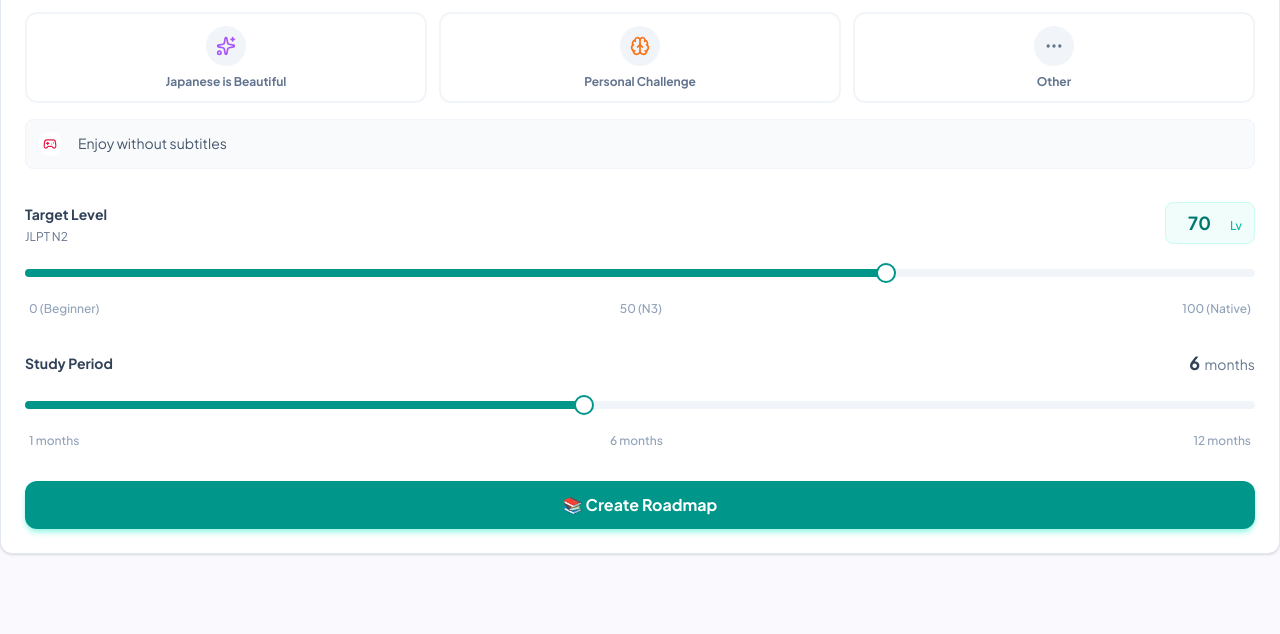
Scenario: RoadmapGenerator Component › enables generation when purpose is selected
(page scrolled)
# Click to generate
Click the button "📚 Create Roadmap": point(640, 505) [25,481,1255,529]
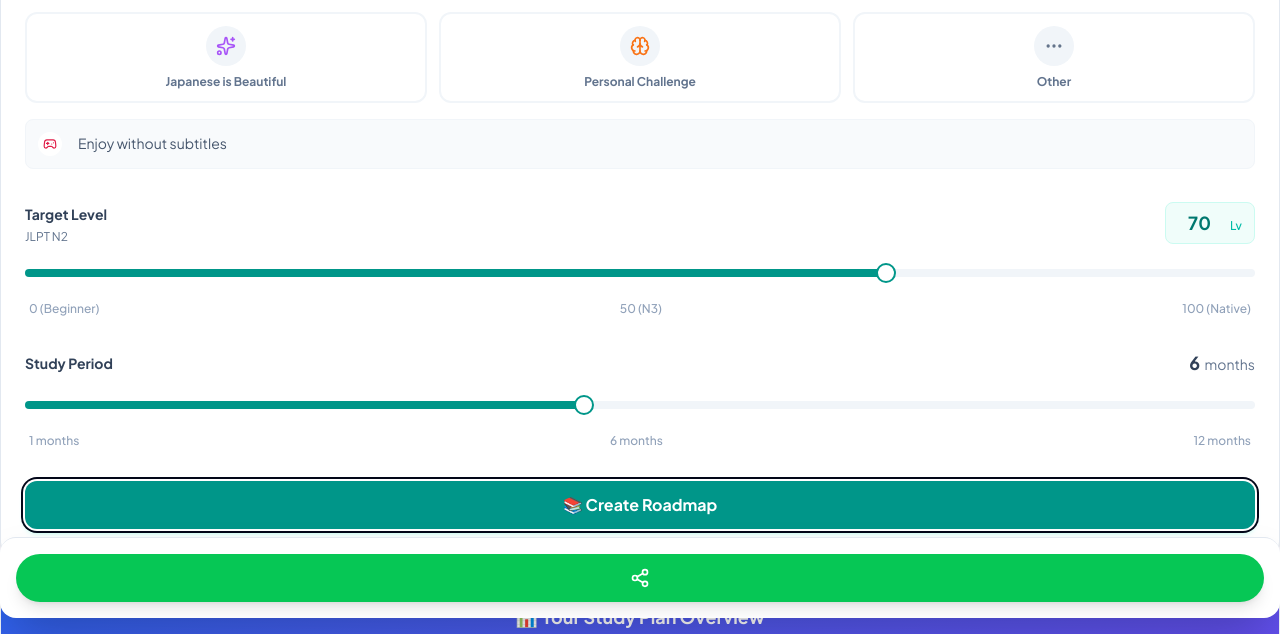
Expected: the heading "📊 Your Study Plan Overview" is shown, [515,605,765,628]
